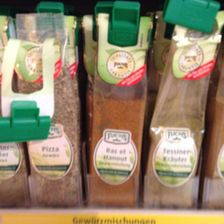spices: (151, 12, 221, 206), (15, 13, 84, 206), (91, 12, 151, 205)
